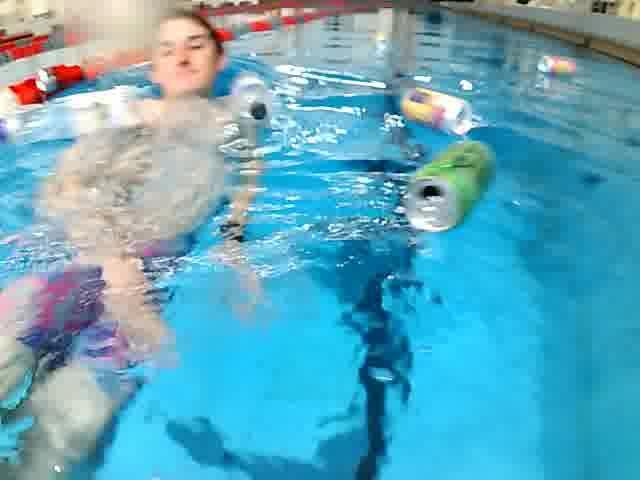Bottle: (230, 72, 274, 125)
Can: (400, 142, 504, 237), (397, 85, 474, 134), (536, 51, 578, 81)
